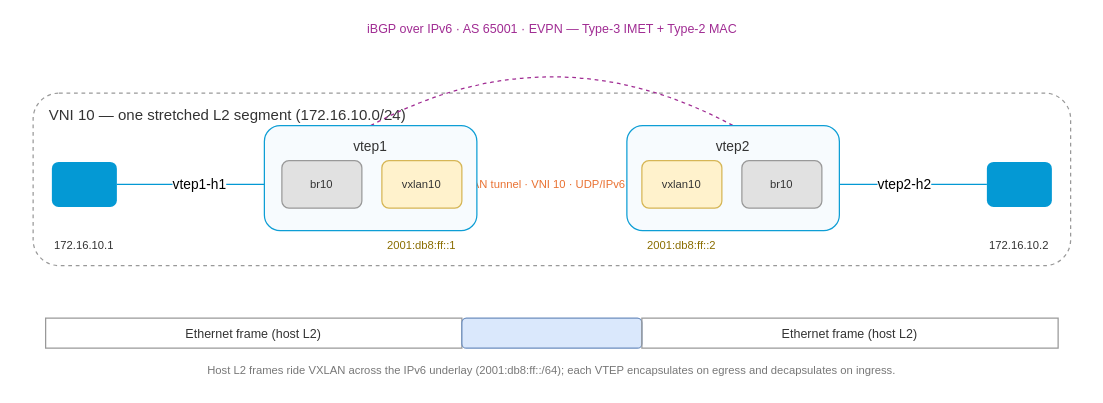
This 1103x403 diagram has some shape labels left out. The shapes that lost their labels are listed below. From the top down, each one's centre as x and y in pixels, then its label:
At (83,183): "h1".
At (1018,183): "h2".
At (551,332): "VXLAN over IPv6".
